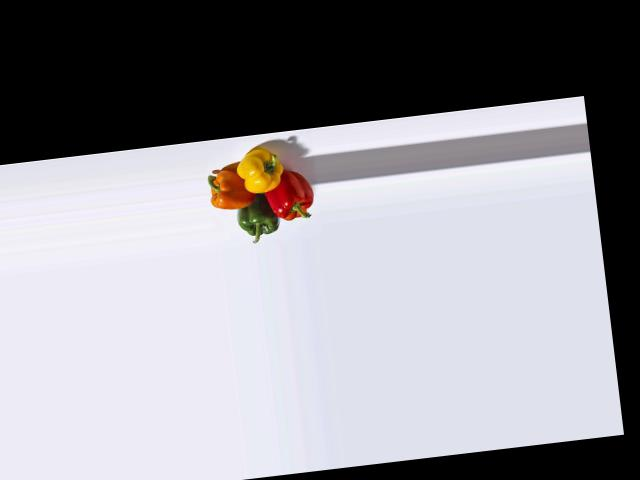bell_pepper: (263, 167, 318, 227)
